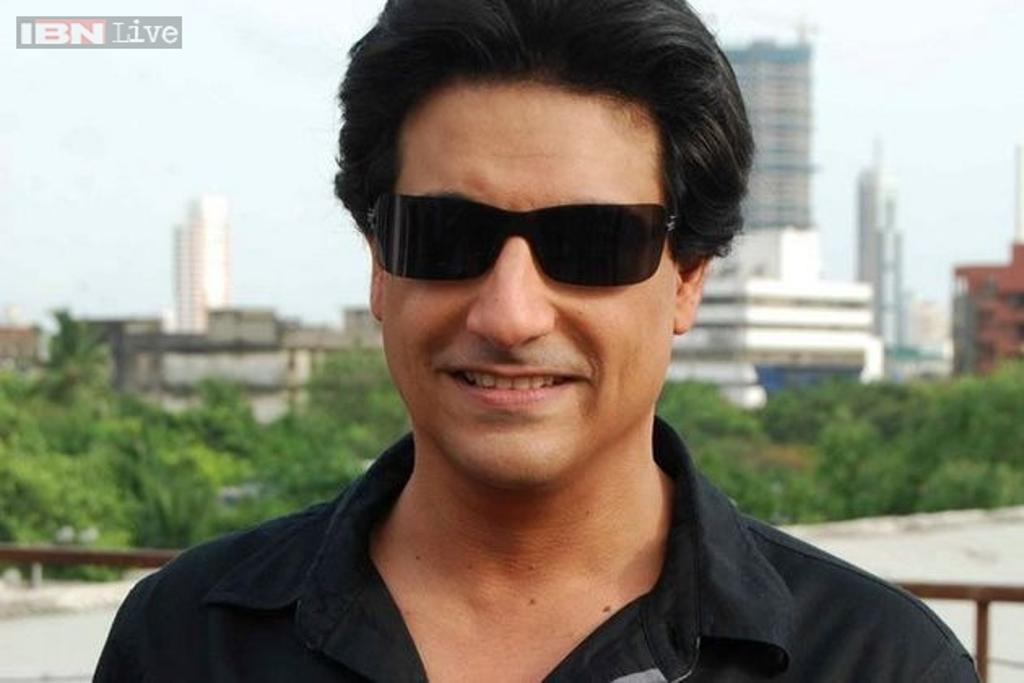face: (392, 66, 672, 460)
